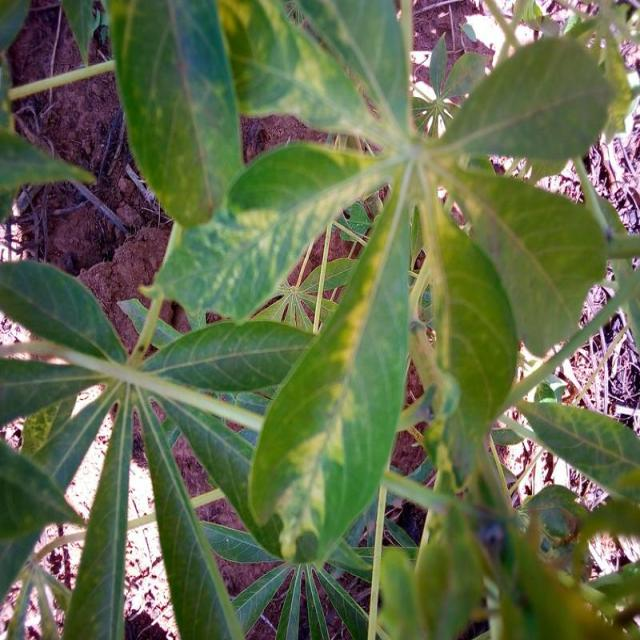cassava leaf: (2, 1, 638, 637), (246, 167, 414, 568), (105, 0, 246, 228), (437, 34, 615, 169)
